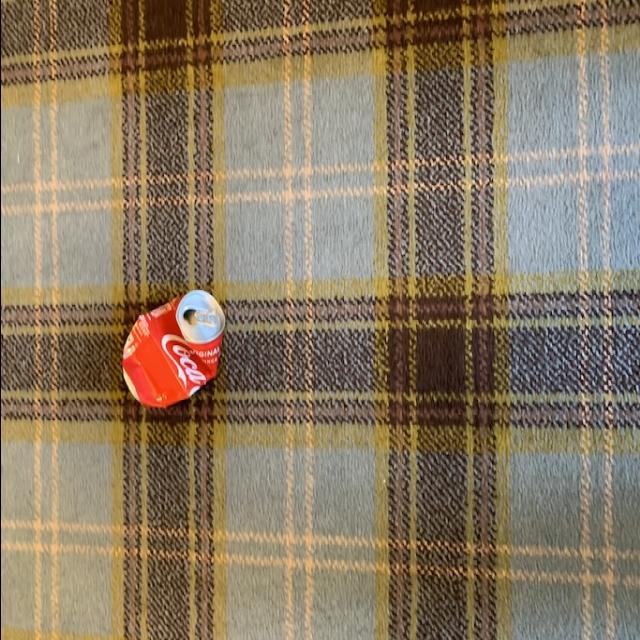litter: (115, 272, 232, 416)
